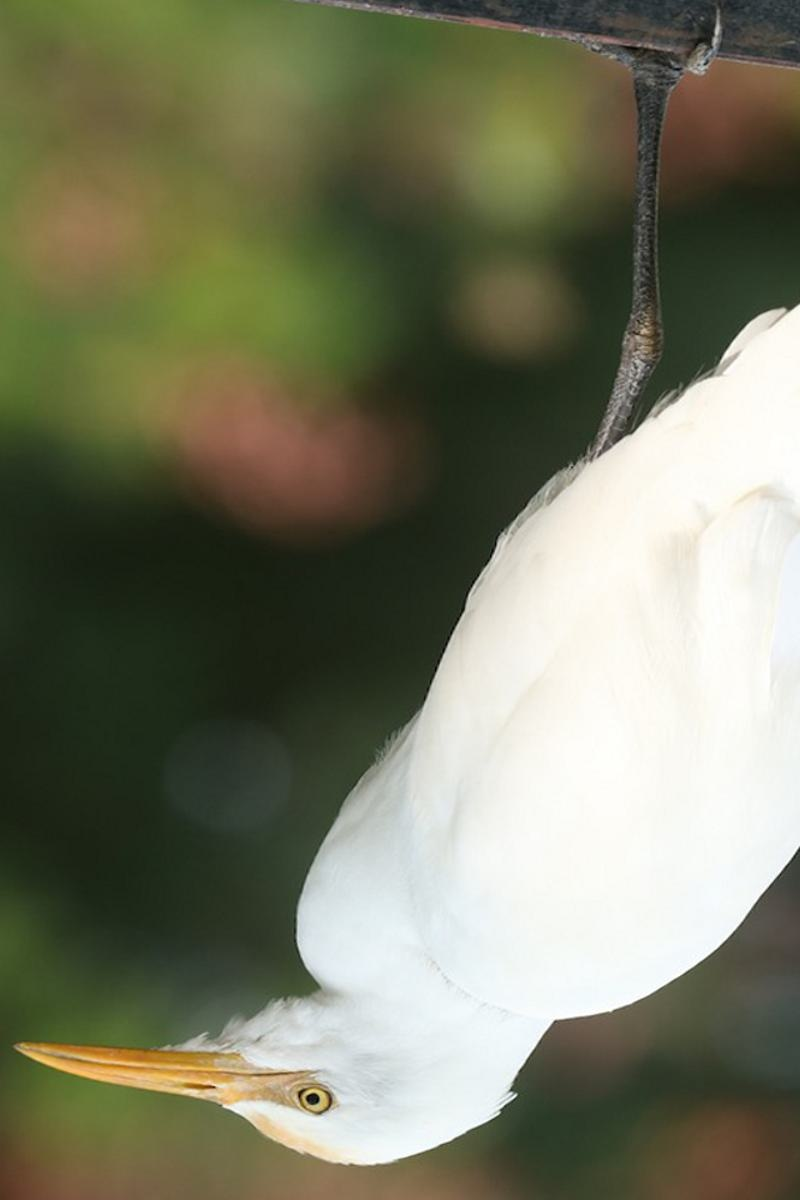egret: (6, 1, 800, 1179)
